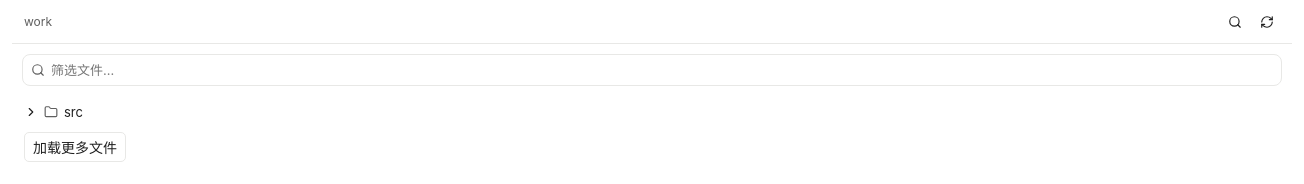
WorkspaceFilesPanel › appends pages, retries errors and refreshes cached entries
Click the button "加载更多文件" at [75, 147], box [24,132,126,162]
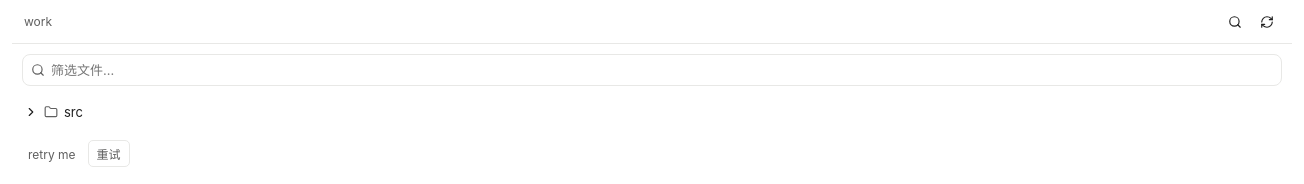
Result: the message shows "retry me" at [28,147,76,162]
Click the button "重试" at [109, 154], box [88,140,130,167]
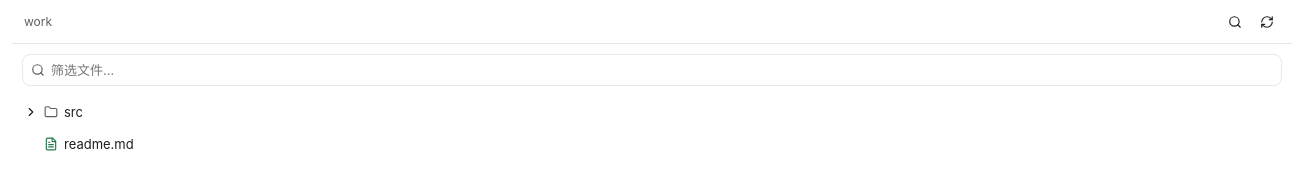
Expected: the list item "src" is shown, [12,96,1292,128]
Result: the list item "readme.md" is shown at [12,128,1292,160]
Click the button named "刷新文件列表" at [1267, 22], box [1254,8,1280,34]
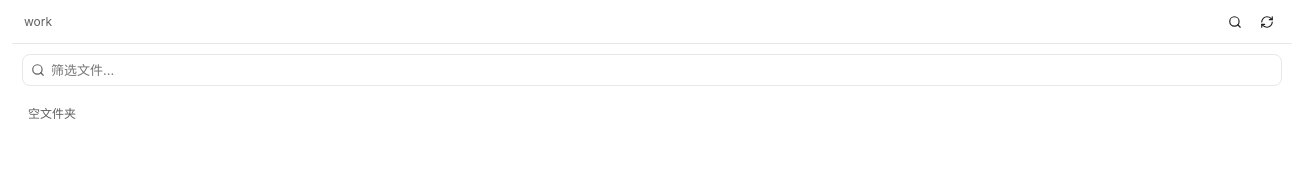
Result: the text "空文件夹" is shown at [28,106,76,121]
Result: the list item "src" is gone
